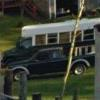buses: (20, 17, 100, 64)
